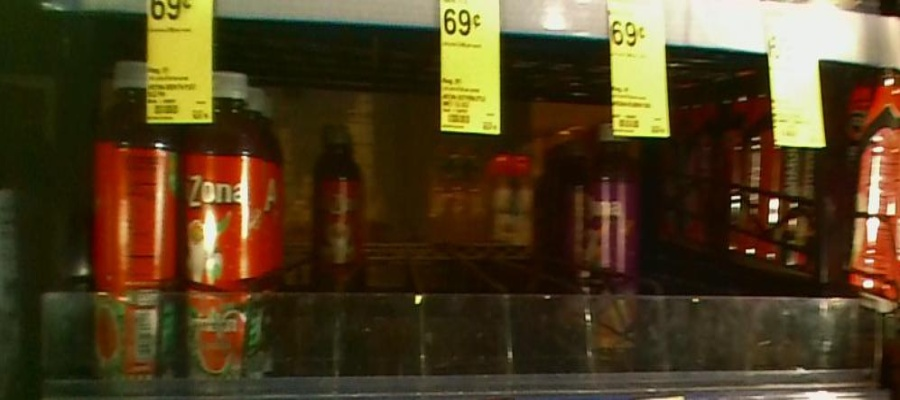bottle: (90, 52, 175, 388), (178, 42, 260, 390), (582, 121, 642, 294), (311, 127, 370, 295)
